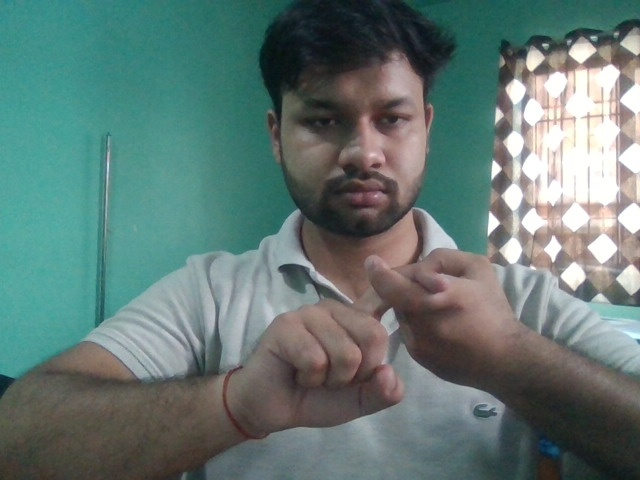Friend: (236, 246, 518, 433)
